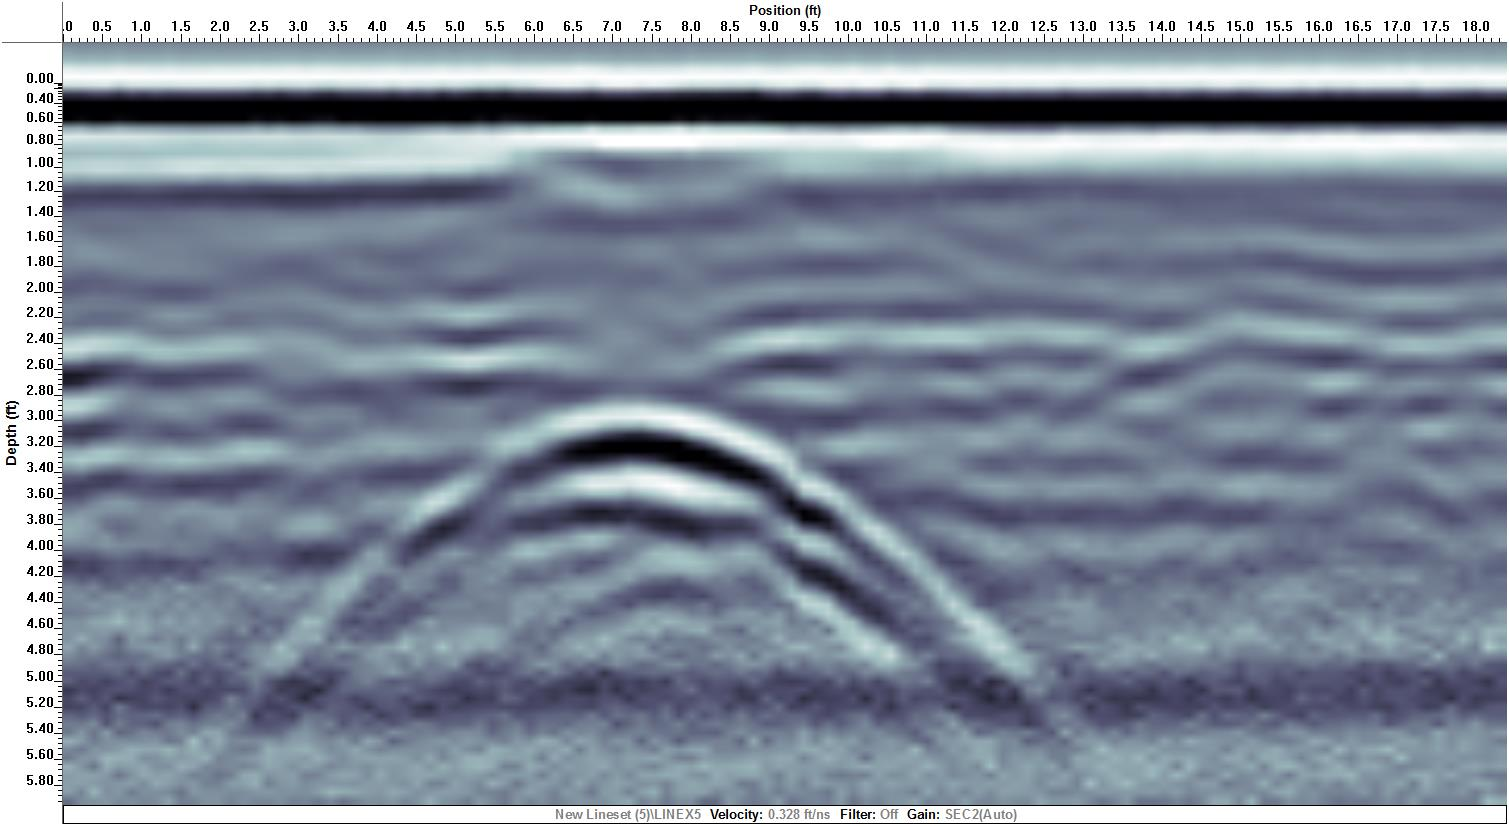hyperbola: (228, 394, 1046, 660)
